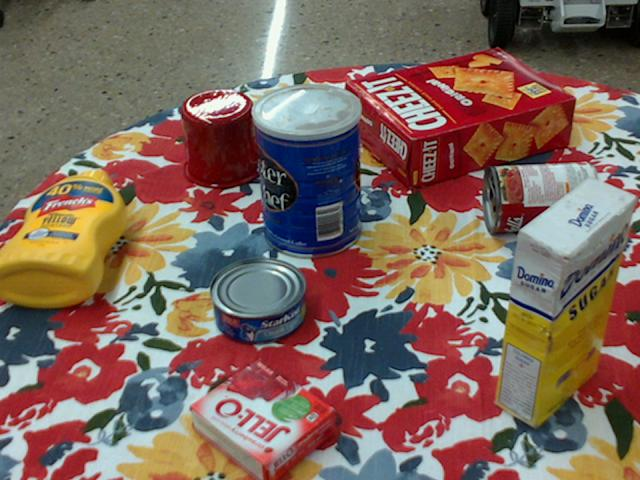cracker_box: (346, 49, 576, 190)
gelatin_box: (192, 361, 339, 479)
master_chef_can: (252, 82, 362, 258)
mug: (180, 89, 283, 188)
mustard_bottle: (0, 170, 126, 307)
sugar_box: (497, 175, 636, 429)
tomato_soup_can: (483, 160, 601, 233)
tuna_fish_can: (209, 258, 306, 345)
